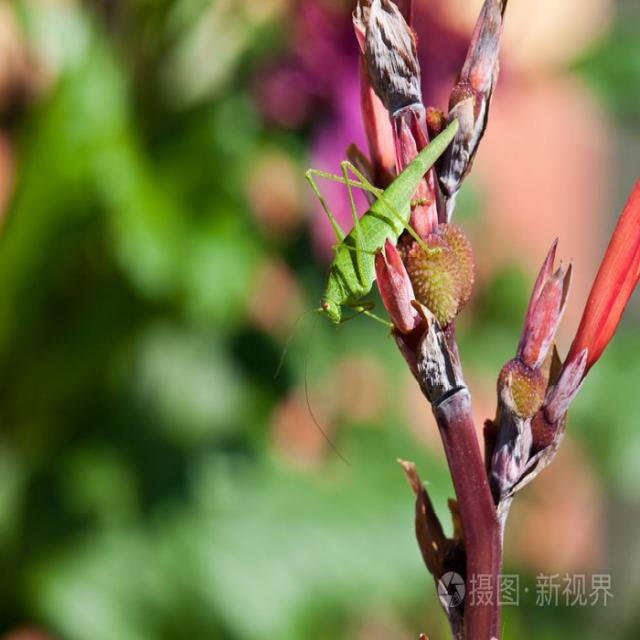ZhaMeng: (291, 105, 462, 352)
